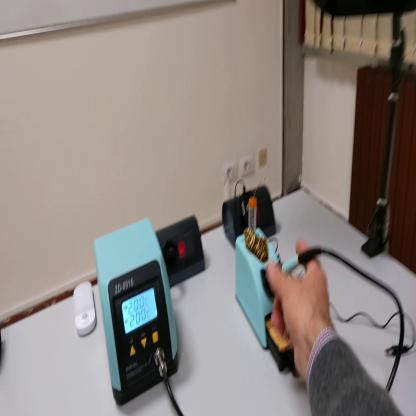hand: (268, 236, 329, 382)
socket: (157, 212, 207, 288), (222, 182, 276, 249)
welder base: (237, 193, 300, 378)
welder probe tip: (278, 242, 323, 275)
welder station: (95, 216, 179, 410)
